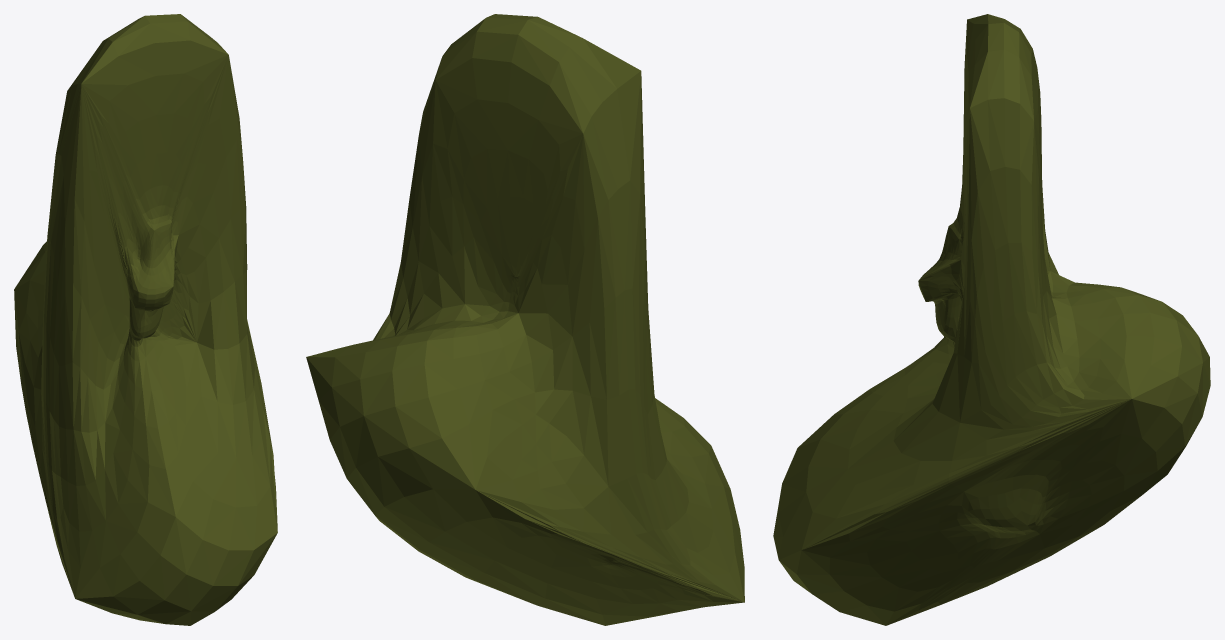
The picture shows the model from 3 angles, left to right: view 1: azimuth 30°, elevation 25°; view 2: azimuth 150°, elevation 25°; view 3: azimuth 270°, elevation 25°; orthographic projection. The views are drawn at different scales.
Visible parts, largest first — view 1: 004_Cube.028; view 2: 004_Cube.028; view 3: 004_Cube.028.
Boxes of the visible parts, bbox=[...] form: 004_Cube.028: bbox=[14, 14, 277, 625]; 004_Cube.028: bbox=[306, 14, 744, 625]; 004_Cube.028: bbox=[773, 14, 1210, 625].
Size of the model in its own units: 7.34 by 15.01 by 9.75.
